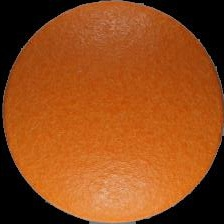0904-5512: (0, 0, 224, 224)
